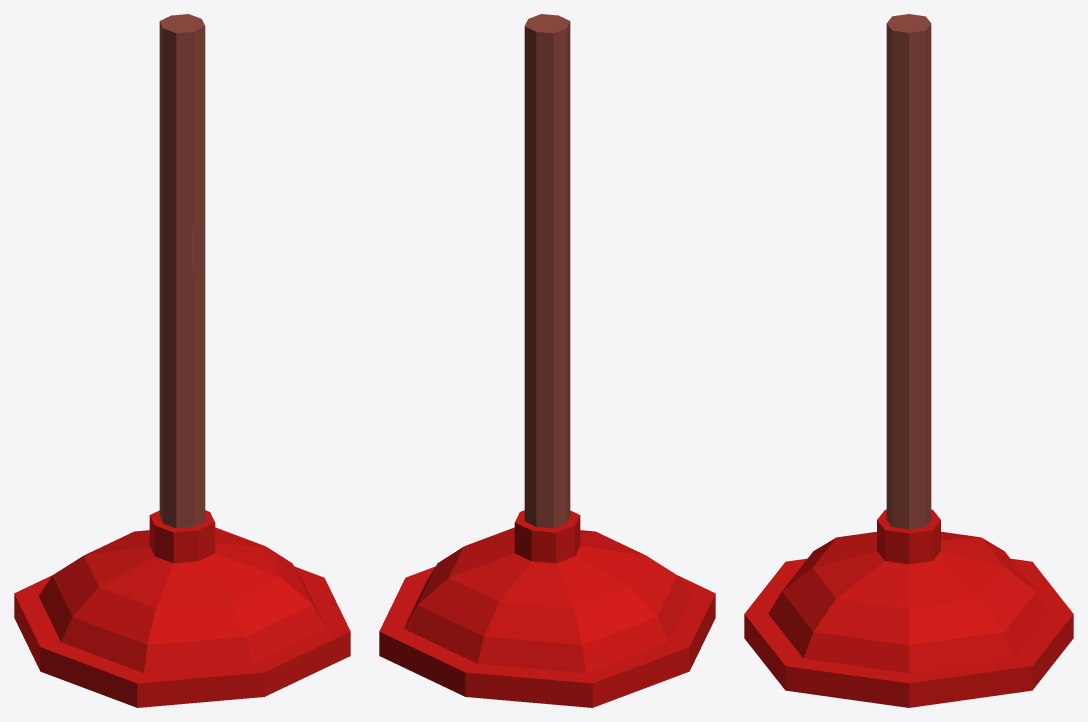
The model's file is Destaca_Texture.fbx.
The picture shows the model from 3 angles, left to right: view 1: azimuth 30°, elevation 25°; view 2: azimuth 150°, elevation 25°; view 3: azimuth 270°, elevation 25°; orthographic projection.
Parts seen in each view (by area): view 1: highlights pipe; view 2: highlights pipe; view 3: highlights pipe.
Boxes of the visible parts, x1,y1,x2,y2 form: highlights pipe: (14, 14, 350, 707); highlights pipe: (379, 14, 715, 707); highlights pipe: (744, 14, 1073, 707).
Size of the model in its own units: 239 by 492 by 239.
